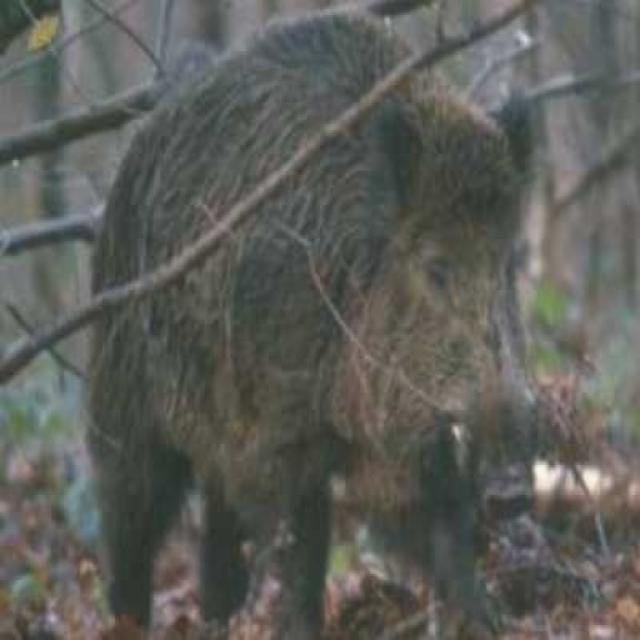pig: (61, 20, 562, 640)
